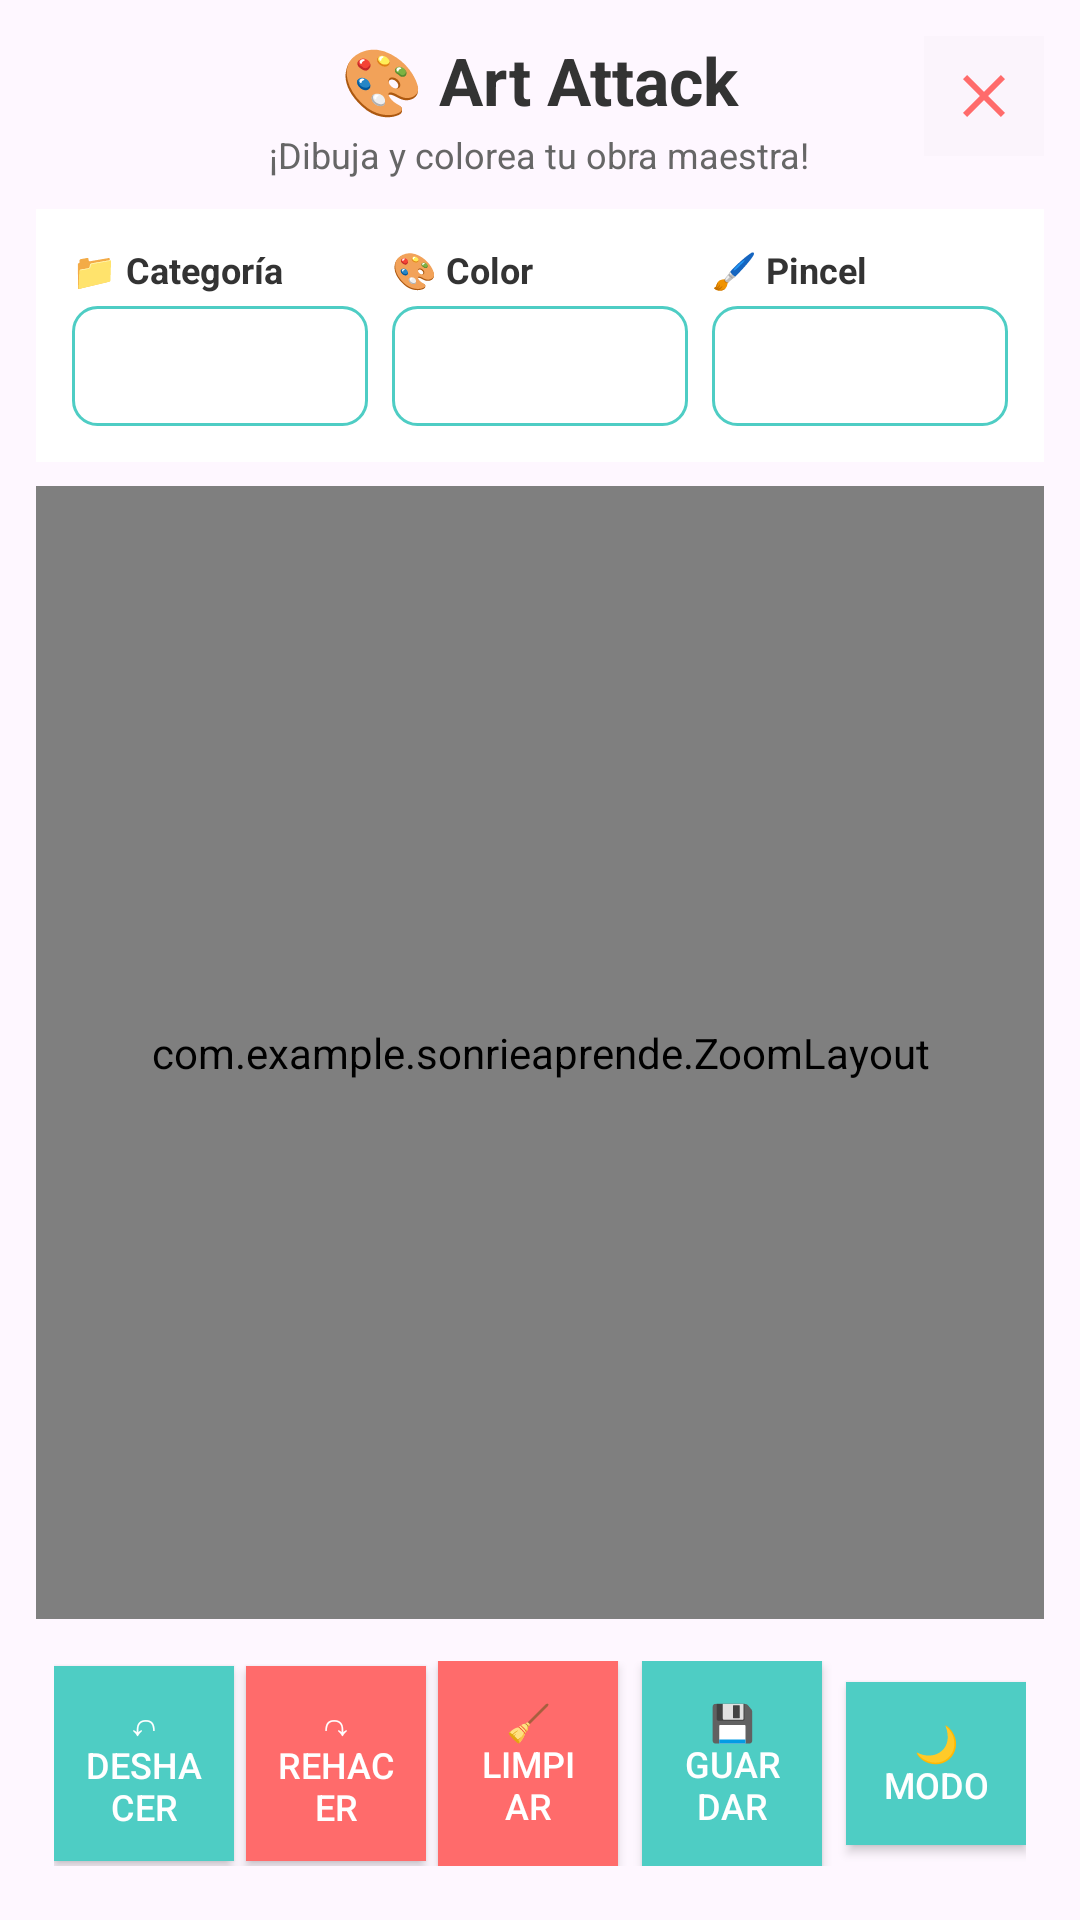

Locate icon controls on the screen. Image size 1080x1920, boxes as [x1, y1, x2, y2].
Cerrar juego: [963, 75, 1005, 117]
